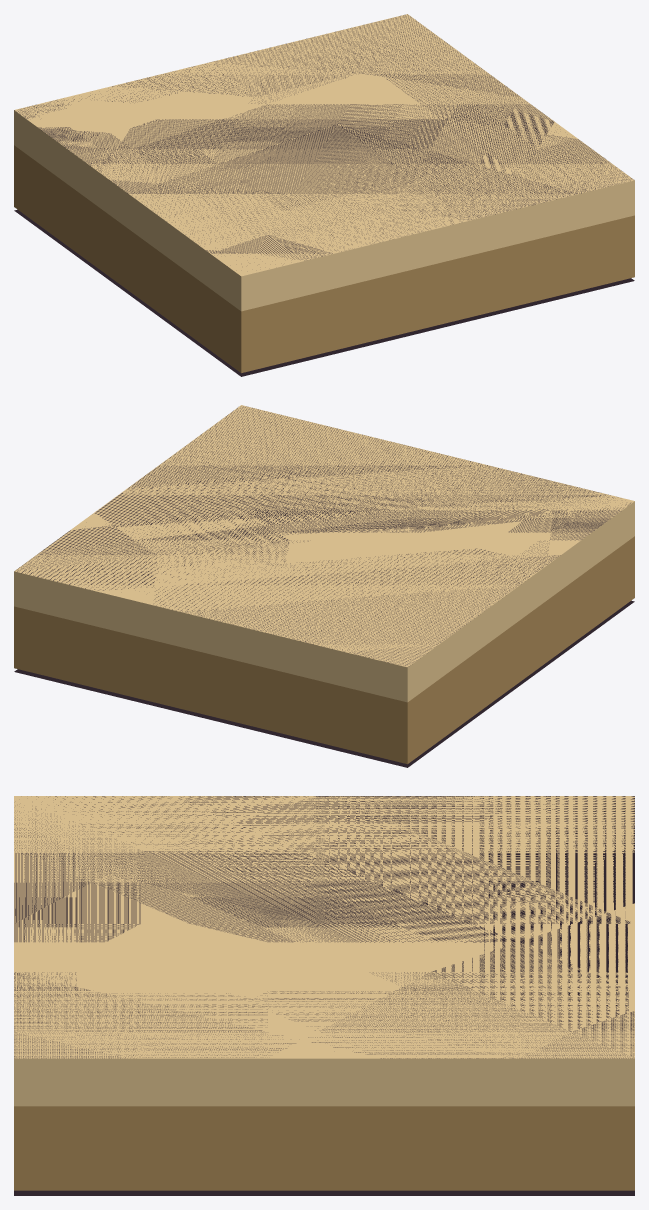
Rendered from SM_Island_Tile_Sand.fbx.
3 views of the same model, one above another, from view 1: azimuth 30°, elevation 25°; view 2: azimuth 150°, elevation 25°; view 3: azimuth 270°, elevation 25° (orthographic). The views are drawn at different scales.
Parts seen in each view (by area): view 1: SM_Island_Tile_Sand, SM_Island_Tile_Sand_Outline; view 2: SM_Island_Tile_Sand, SM_Island_Tile_Sand_Outline; view 3: SM_Island_Tile_Sand, SM_Island_Tile_Sand_Outline.
Part boxes in pixels (x1,y1,x2,y2): SM_Island_Tile_Sand: (14,14,634,373); SM_Island_Tile_Sand_Outline: (14,14,634,376); SM_Island_Tile_Sand: (14,405,634,764); SM_Island_Tile_Sand_Outline: (14,406,634,767); SM_Island_Tile_Sand: (14,796,634,1190); SM_Island_Tile_Sand_Outline: (14,796,634,1195).
Bounding box in the file's own units: 2 × 0.488 × 2.
Materials: 2 (1 with a texture image).
